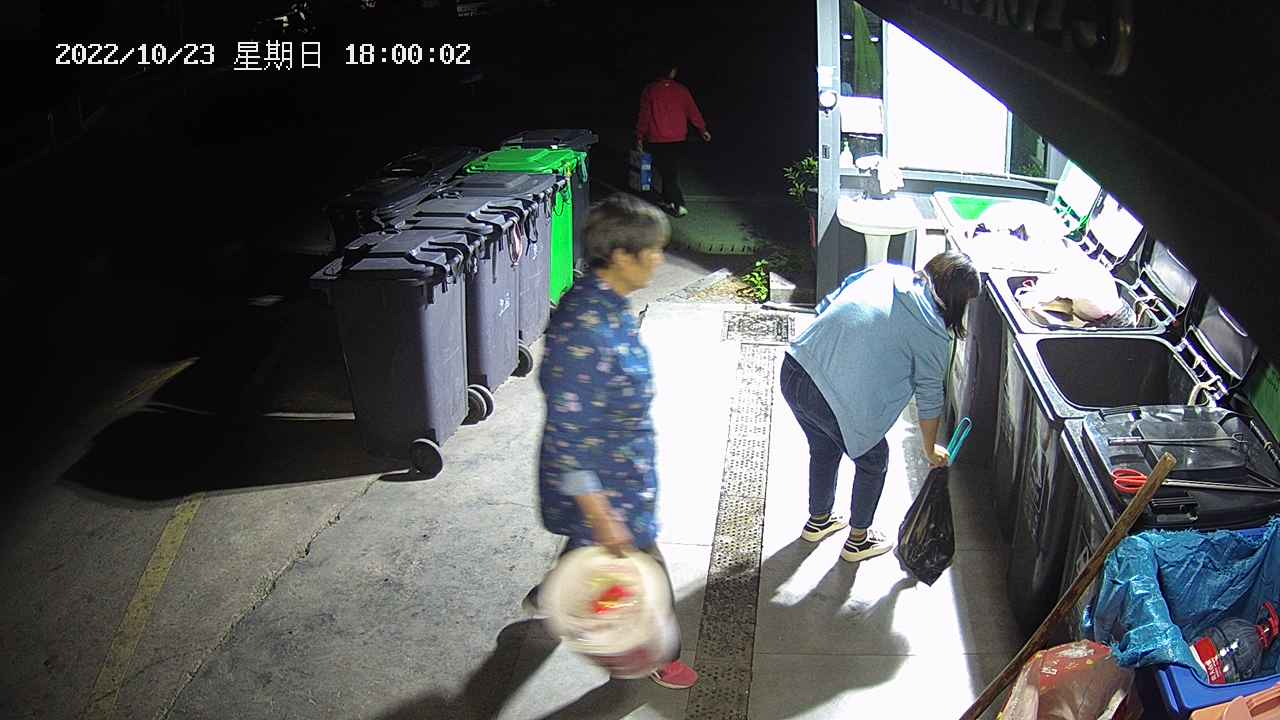garbage-bag: (891, 414, 973, 588)
person: (631, 56, 712, 219)
worker: (520, 187, 701, 689), (779, 248, 982, 564)
youtong: (537, 542, 683, 680)
zhizhipin: (627, 145, 654, 191)
